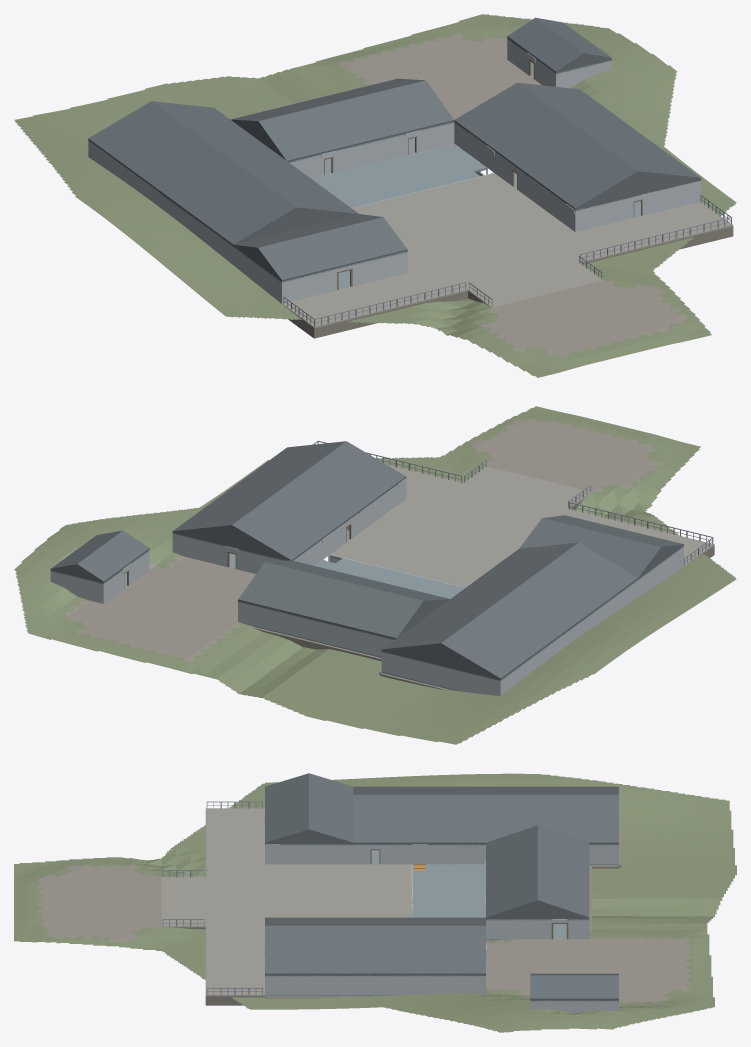
The model's file is constructed-cells.glb.
The picture shows the model from 3 angles, top to bottom: view 1: azimuth 30°, elevation 25°; view 2: azimuth 150°, elevation 25°; view 3: azimuth 270°, elevation 25°; orthographic projection. The views are drawn at different scales.
Visible parts, largest first — view 1: Saved editor geographic earthworks WLD-08, WLD-08 compound service forecourt structural surface region0, WLD-08 raised courtyard terrace structural surface region0, dormitory-and-mess roof west, radio-records roof south, laboratory roof west, generator-building roof west, Entrance rebuild Research courtyard structural deck region0, stores roof south, dormitory-and-mess roof east, laboratory roof east, generator-building roof east (+21 smaller); view 2: Saved editor geographic earthworks WLD-08, WLD-08 raised courtyard terrace structural surface region0, dormitory-and-mess roof west, radio-records roof north, WLD-08 compound service forecourt structural surface region0, generator-building roof west, laboratory roof west, dormitory-and-mess roof east, stores roof north, generator-building roof east, laboratory roof east, WLD-08 arrival apron structural surface region0 (+18 smaller); view 3: Saved editor geographic earthworks WLD-08, WLD-08 compound service forecourt structural surface region0, dormitory-and-mess roof east, WLD-08 raised courtyard terrace structural surface region0, laboratory roof east, generator-building roof east, radio-records roof north, radio-records roof south, Entrance rebuild Research courtyard structural deck region0, stores roof north, stores roof south, WLD-08 clean dorm E end (+13 smaller).
Boxes of the visible parts, bbox=[...] form: Saved editor geographic earthworks WLD-08: bbox=[14, 14, 736, 377]; WLD-08 compound service forecourt structural surface region0: bbox=[282, 201, 733, 328]; WLD-08 raised courtyard terrace structural surface region0: bbox=[352, 173, 574, 272]; dormitory-and-mess roof west: bbox=[454, 83, 637, 209]; radio-records roof south: bbox=[258, 80, 454, 161]; laboratory roof west: bbox=[161, 154, 296, 245]; generator-building roof west: bbox=[88, 101, 223, 192]; Entrance rebuild Research courtyard structural deck region0: bbox=[312, 144, 493, 207]; stores roof south: bbox=[257, 217, 407, 281]; dormitory-and-mess roof east: bbox=[517, 82, 700, 178]; laboratory roof east: bbox=[224, 154, 358, 214]; generator-building roof east: bbox=[152, 101, 286, 160]; Saved editor geographic earthworks WLD-08: bbox=[14, 406, 736, 744]; WLD-08 raised courtyard terrace structural surface region0: bbox=[330, 499, 532, 587]; dormitory-and-mess roof west: bbox=[232, 441, 406, 560]; radio-records roof north: bbox=[238, 562, 423, 639]; WLD-08 compound service forecourt structural surface region0: bbox=[385, 464, 714, 566]; generator-building roof west: bbox=[441, 593, 569, 679]; laboratory roof west: bbox=[510, 542, 638, 629]; dormitory-and-mess roof east: bbox=[172, 441, 345, 532]; stores roof north: bbox=[519, 518, 660, 578]; generator-building roof east: bbox=[381, 593, 508, 650]; laboratory roof east: bbox=[451, 542, 577, 598]; WLD-08 arrival apron structural surface region0: bbox=[463, 466, 591, 508]; Saved editor geographic earthworks WLD-08: bbox=[14, 773, 736, 1032]; WLD-08 compound service forecourt structural surface region0: bbox=[205, 808, 264, 996]; dormitory-and-mess roof east: bbox=[265, 925, 485, 974]; WLD-08 raised courtyard terrace structural surface region0: bbox=[265, 864, 412, 917]; laboratory roof east: bbox=[353, 794, 485, 844]; generator-building roof east: bbox=[486, 794, 618, 844]; radio-records roof north: bbox=[537, 825, 589, 918]; radio-records roof south: bbox=[486, 825, 537, 918]; Entrance rebuild Research courtyard structural deck region0: bbox=[412, 864, 485, 917]; stores roof north: bbox=[309, 773, 353, 843]; stores roof south: bbox=[265, 773, 308, 843]; WLD-08 clean dorm E end: bbox=[355, 975, 484, 995].
Size of the model in its own units: 83 by 9.24 by 98.
Materials: 44 (22 with a texture image).
